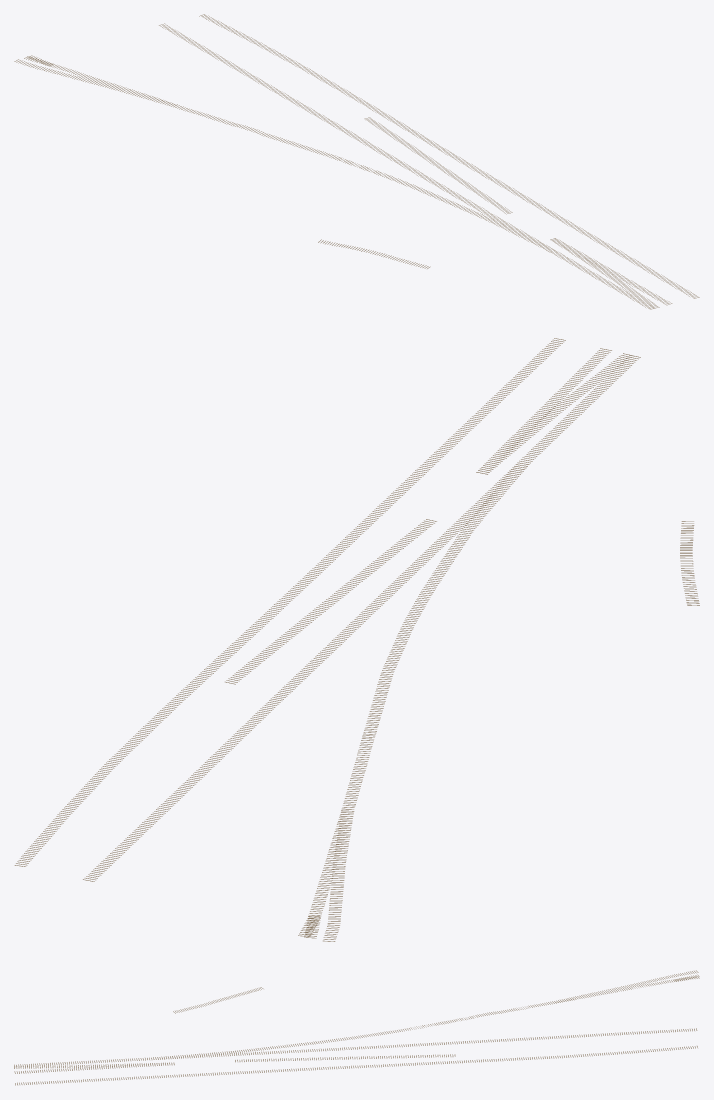
The model's file is c_1630_17820_rail_sleeper.glb.
3 renders of one model, top to bottom at view 1: azimuth 30°, elevation 25°; view 2: azimuth 150°, elevation 25°; view 3: azimuth 270°, elevation 25°, orthographic. The views are drawn at different scales.
Visible parts, largest first — view 1: geometry_0; view 2: geometry_0; view 3: geometry_0.
Boxes of the visible parts, <box> form: geometry_0: <box>14,14,699,309</box>; geometry_0: <box>14,338,699,941</box>; geometry_0: <box>14,970,699,1085</box>.
Size of the model in its own units: 99.43 by 1.48 by 256.
